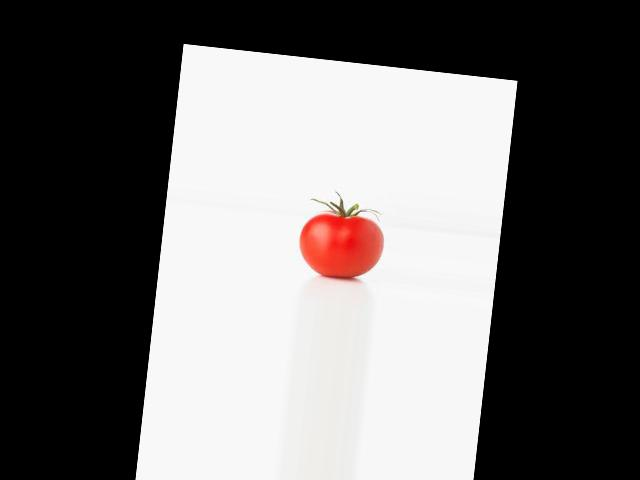tomato: (295, 210, 385, 282)
